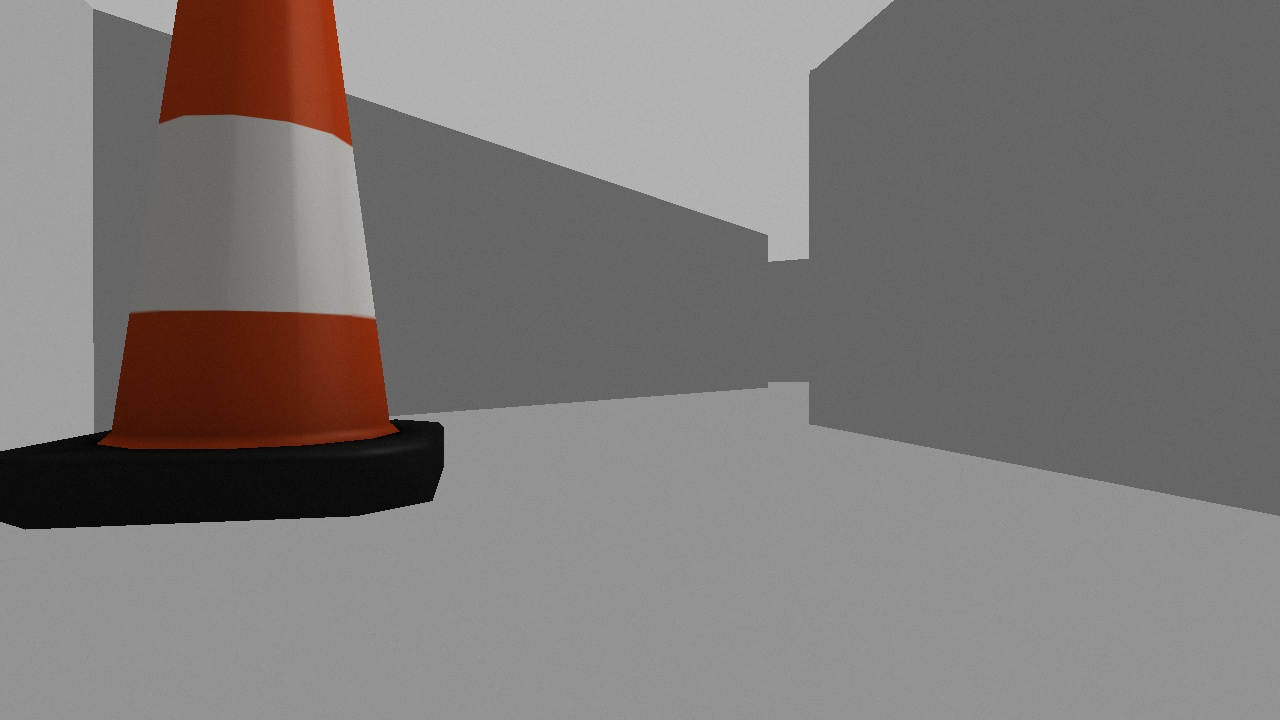barricade: (1, 2, 445, 526)
